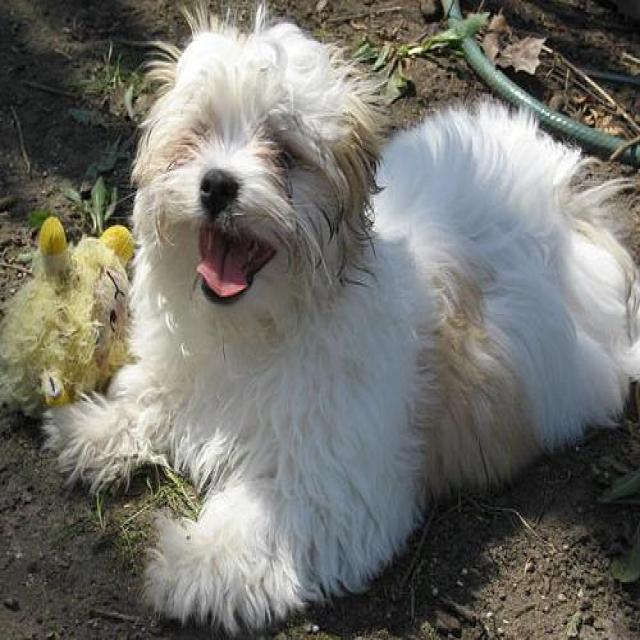shih_tzu: (41, 15, 636, 628)
